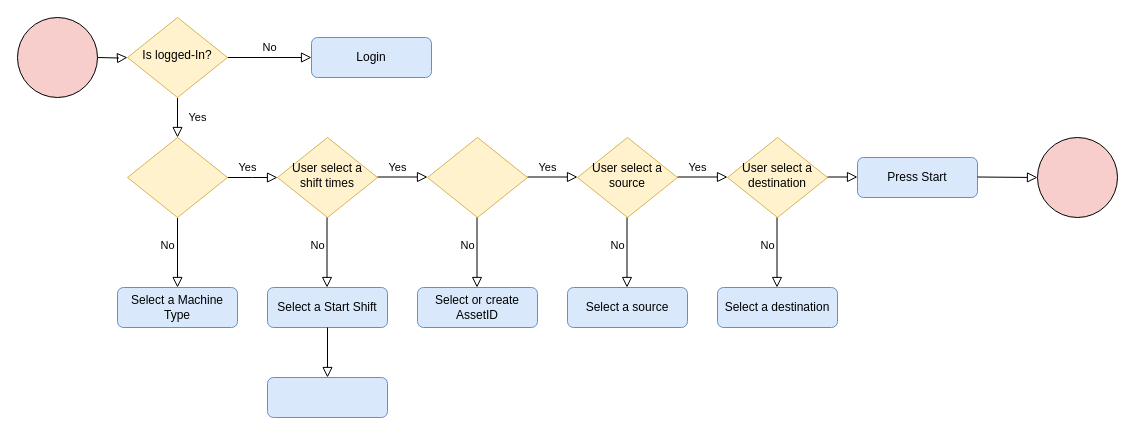
Some shapes in this 1135 by 435 pixel diagram are drawn without their labels. The box of each missing label's shape, as (x1, y1, x2, y2) in pixels:
Finish Load: (1036, 136, 1118, 218)
Select a End Shift: (266, 376, 388, 418)
User Opens the app: (16, 16, 98, 98)
User select a Machine Type: (126, 136, 228, 218)
User set AssetID: (426, 136, 528, 218)
